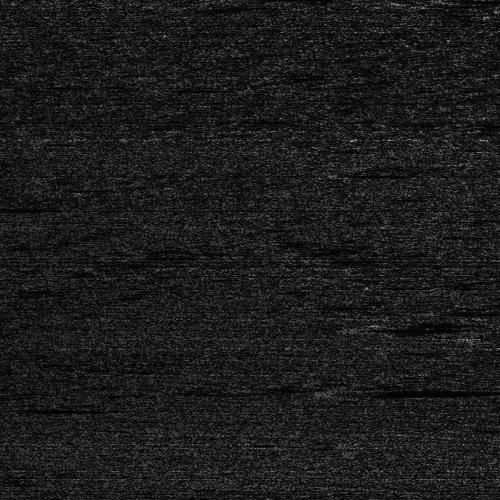object: (305, 376, 410, 405), (0, 406, 26, 411), (362, 323, 373, 330), (482, 337, 500, 340)
shadow: (358, 376, 500, 405), (368, 323, 470, 330), (0, 406, 100, 411)
